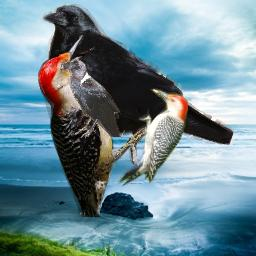Crow: (41, 4, 234, 145), (61, 58, 121, 137)
Woodpecker: (38, 35, 158, 217), (115, 85, 188, 191)
